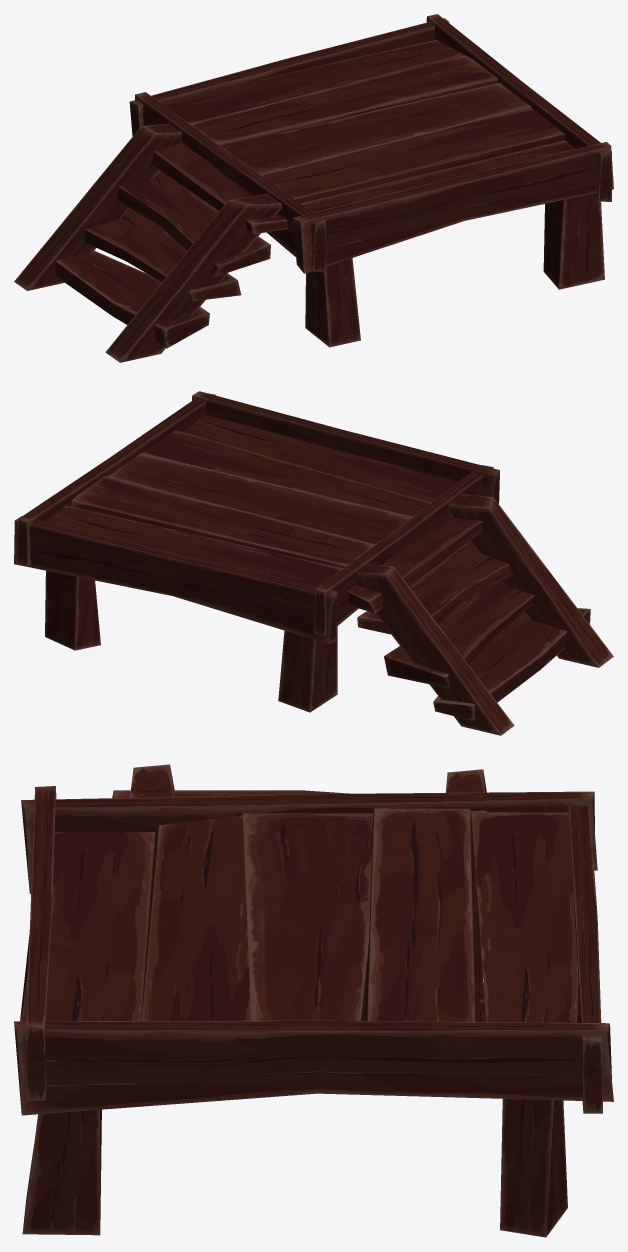
Rendered from SM_PROP_foundation_wood_01.fbx.
3 views of the same model, one above another, from view 1: azimuth 30°, elevation 25°; view 2: azimuth 150°, elevation 25°; view 3: azimuth 270°, elevation 25° (orthographic). The views are drawn at different scales.
Parts seen in each view (by area): view 1: SM_PROP_foundation_wood_01; view 2: SM_PROP_foundation_wood_01; view 3: SM_PROP_foundation_wood_01.
Boxes of the visible parts, bbox=[...] form: SM_PROP_foundation_wood_01: bbox=[14, 14, 613, 362]; SM_PROP_foundation_wood_01: bbox=[14, 391, 613, 735]; SM_PROP_foundation_wood_01: bbox=[14, 764, 613, 1237].
Size of the model in its own units: 390 by 106 by 266.
